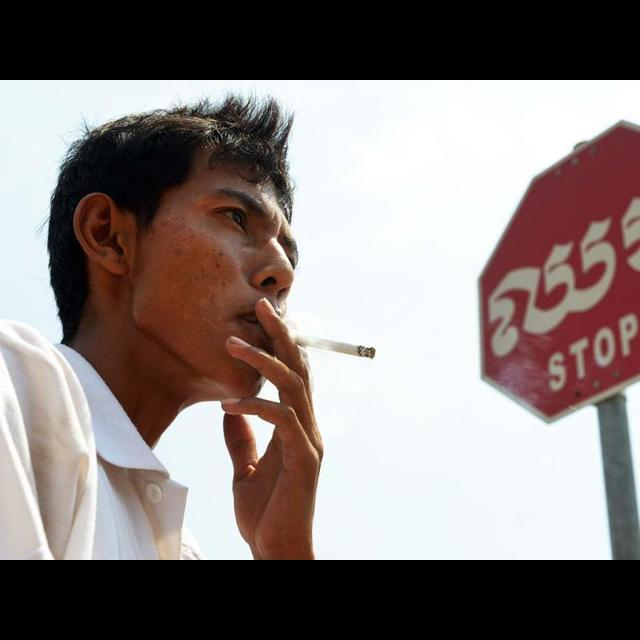rokok: (292, 326, 381, 366)
